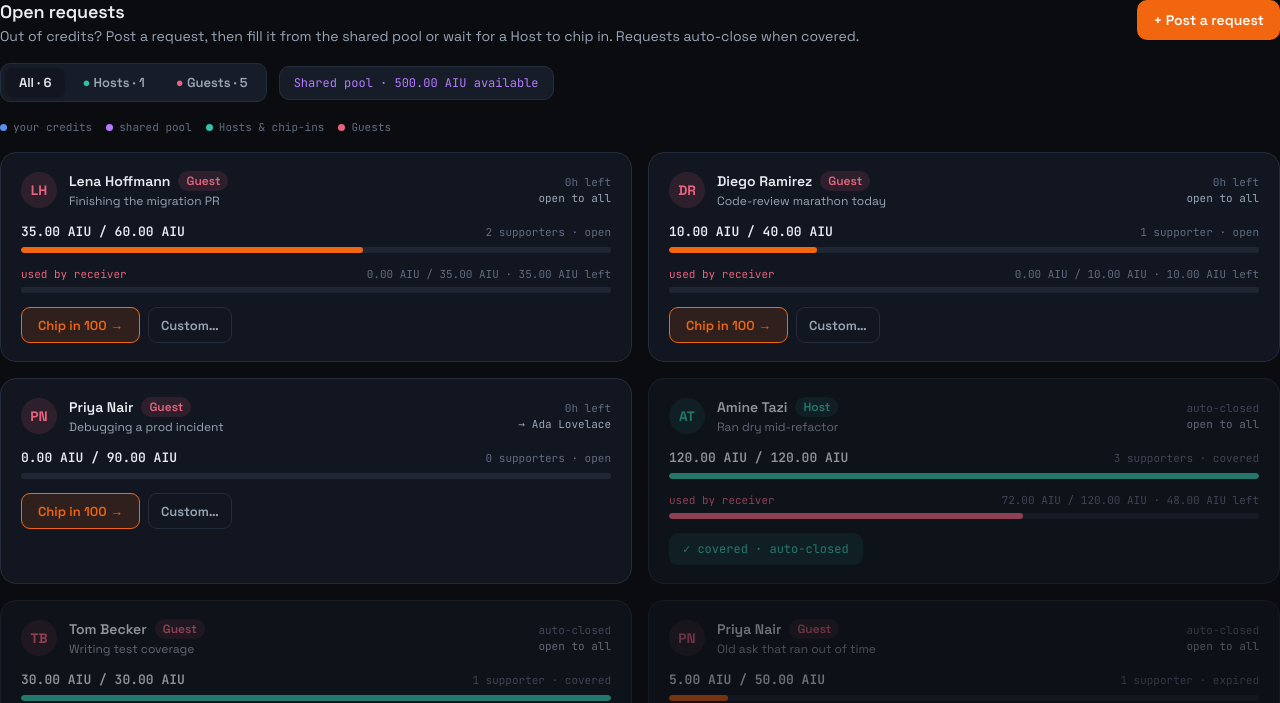
Test: marketplace › owner deletes their request and it disappears
Step 1. Click the button "+ Post a request" → (1209, 20), box [1137,0,1279,40]
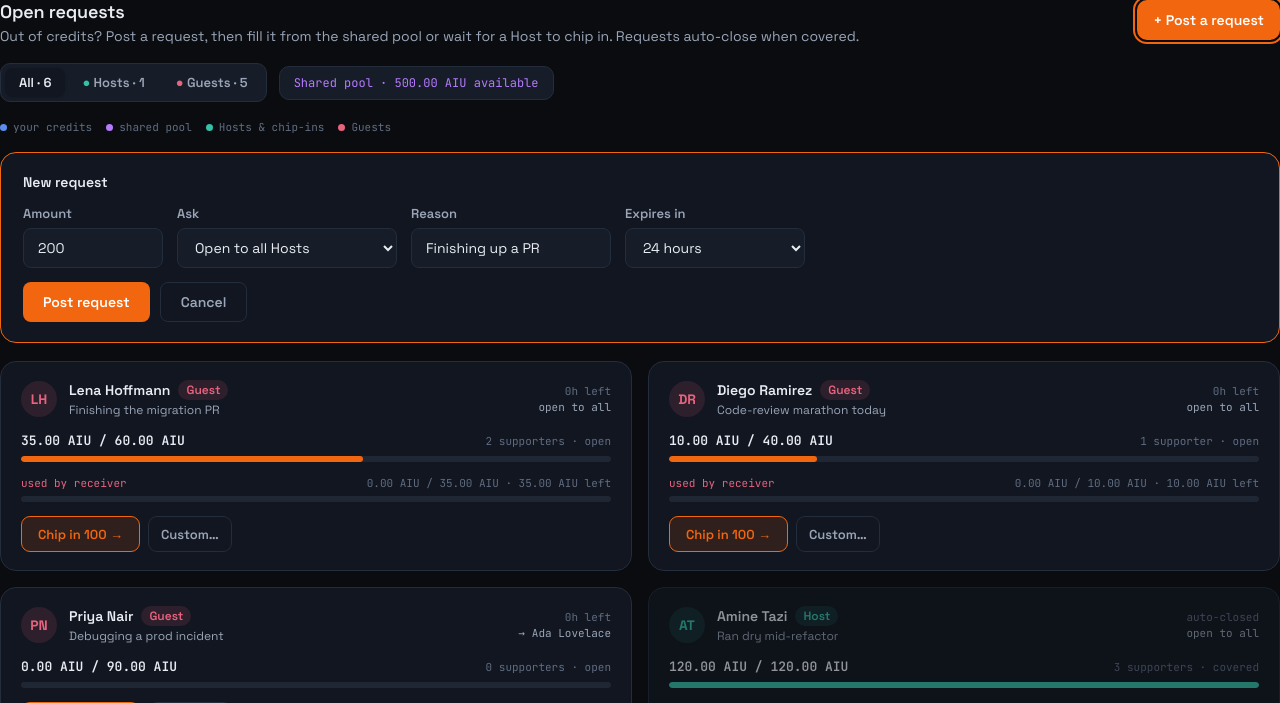
Step 2. Click the button "Post request" → (86, 302), box [23,282,150,322]
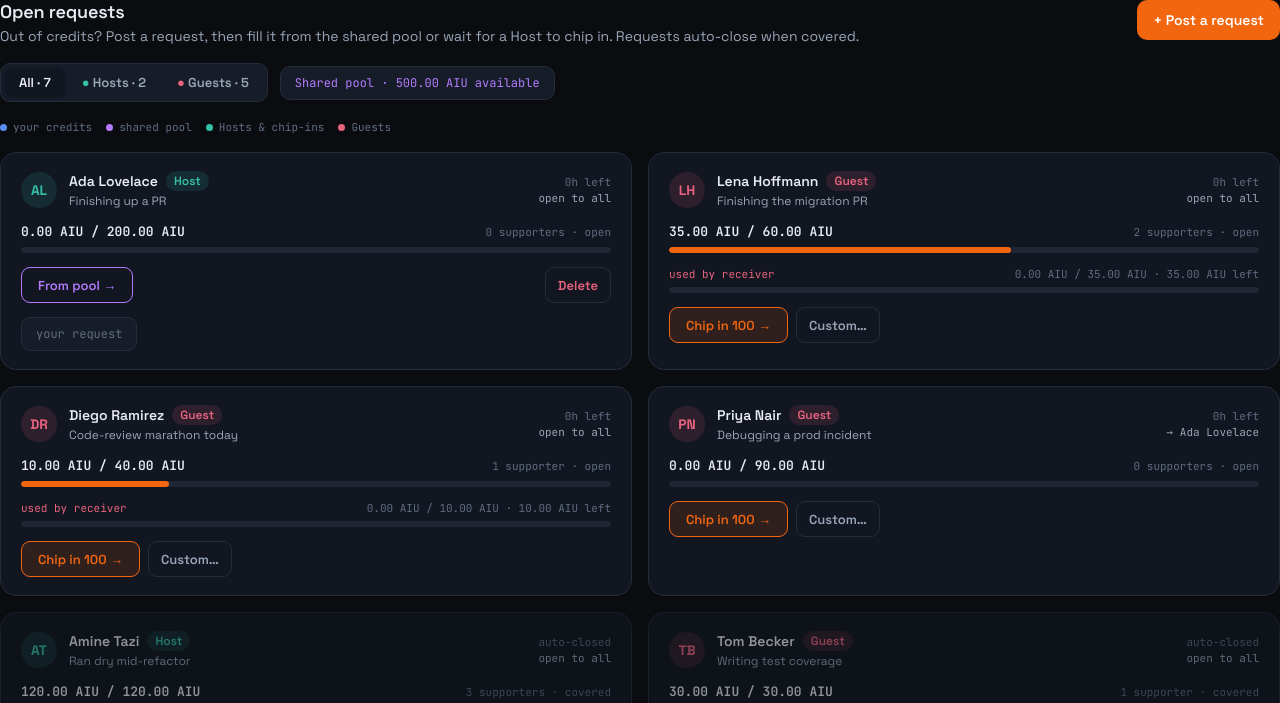
Now the button "All · 7" is shown, box [5,68,65,97]
Step 3. Click the button "Delete" → (578, 285), box [545,267,611,303]
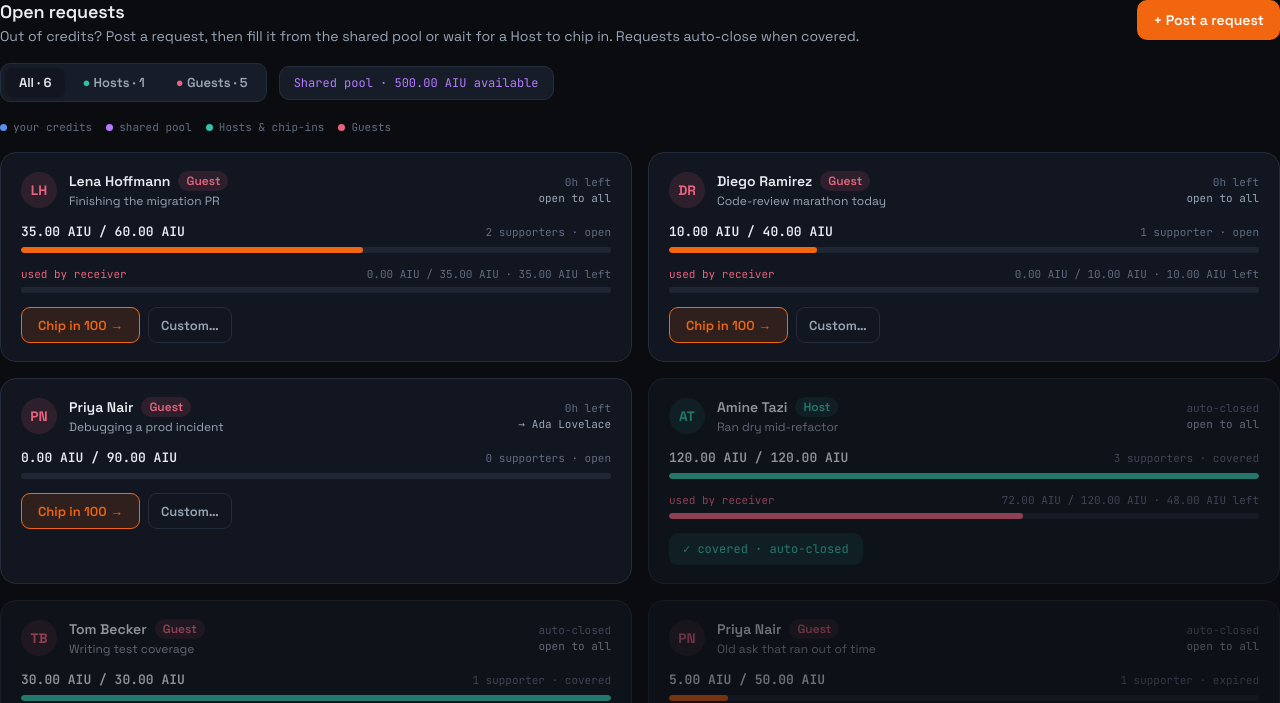
Now the button "All · 6" is shown, box [5,68,65,97]
Now the text "your request" is gone
